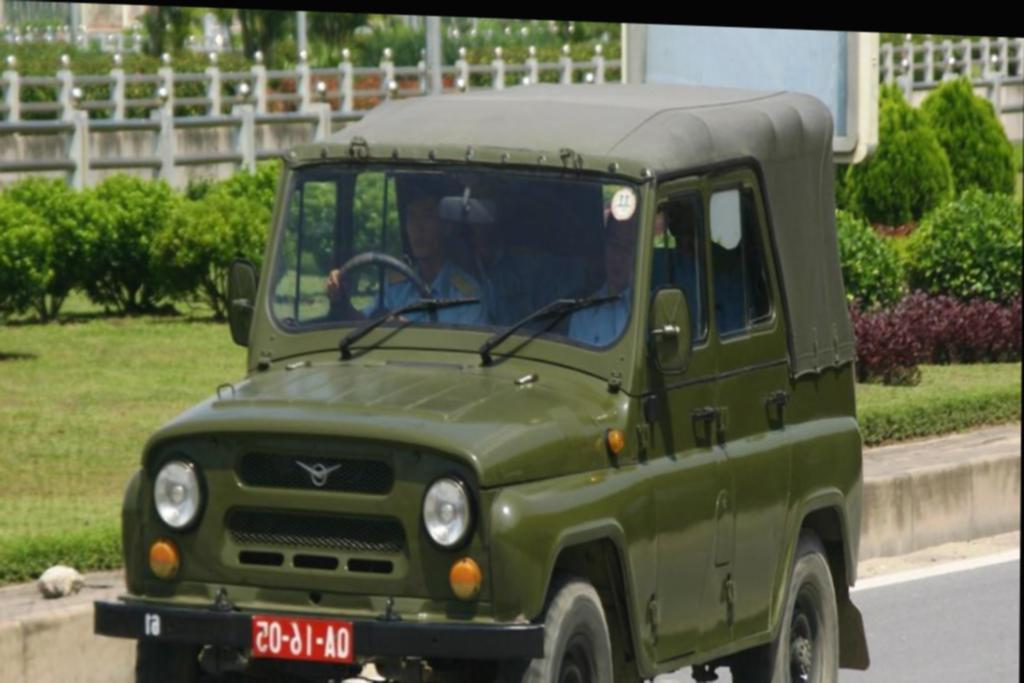License_Plate: (247, 610, 355, 662)
